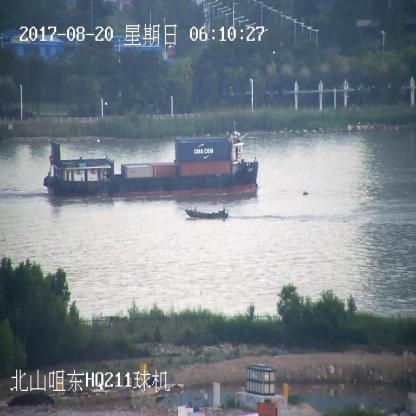Container Ship: (42, 129, 259, 199)
